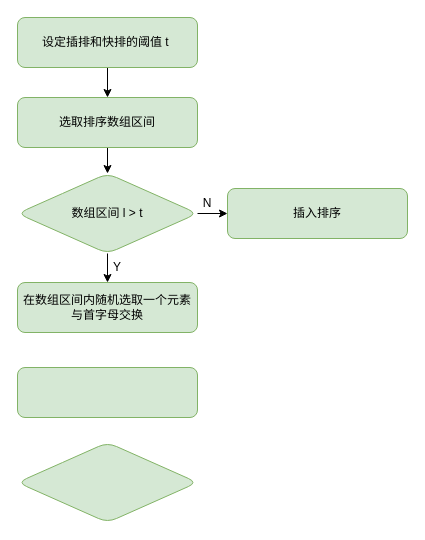
The diagram is 425 pixels wide and 540 high, and some of its shapes have lost their labels. Here are the shapes that lost their labels. From the top down, the box of each, then its label:
(16, 366, 198, 418): 初始化本段区间遍历设置 设置锚点，左指针，右指针
(16, 442, 198, 522): 左指针 <= 右端
